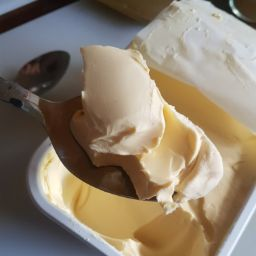Butter: (24, 39, 233, 209), (22, 148, 256, 253)
